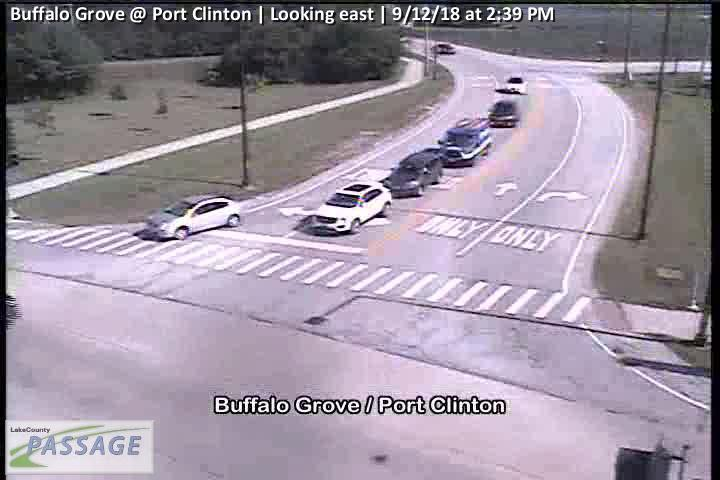Sedan: (308, 181, 393, 235), (146, 193, 241, 240), (382, 151, 443, 198), (436, 121, 493, 163), (488, 99, 521, 126), (498, 76, 529, 94), (431, 43, 457, 54)
